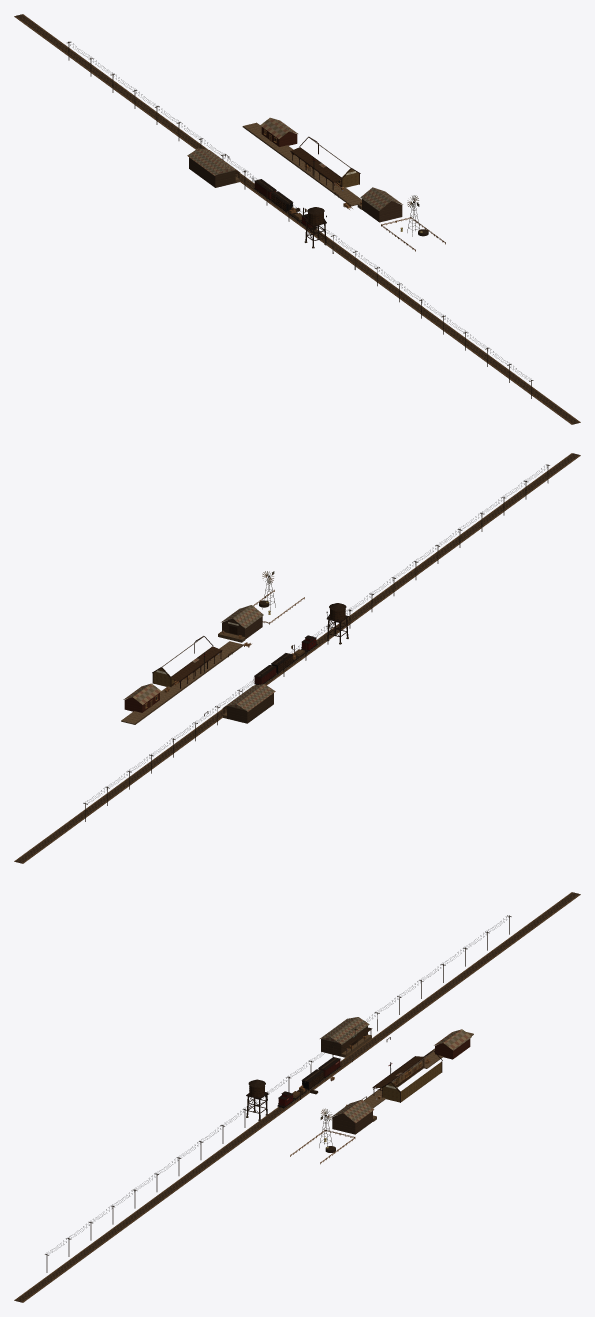
The model's file is depot.glb.
3 views of the same model, one above another, from view 1: azimuth 30°, elevation 25°; view 2: azimuth 150°, elevation 25°; view 3: azimuth 330°, elevation 25° (orthographic).
Visible parts, largest first — view 1: trim-1, adobe-3, masonry-4, walls-0; view 2: trim-1, adobe-3, masonry-4, walls-0; view 3: trim-1, adobe-3, masonry-4, walls-0.
Part boxes in pixels (x1,y1,x2,y2): trim-1: [16, 14, 578, 424]; adobe-3: [14, 14, 580, 424]; masonry-4: [17, 14, 577, 423]; walls-0: [189, 127, 402, 222]; trim-1: [16, 453, 578, 862]; adobe-3: [14, 453, 580, 863]; masonry-4: [17, 453, 577, 862]; walls-0: [124, 616, 273, 723]; trim-1: [16, 892, 578, 1302]; adobe-3: [14, 892, 580, 1302]; masonry-4: [17, 892, 577, 1301]; walls-0: [321, 1026, 470, 1134].
Bounding box in the file's own units: 45.76 × 14.38 × 380.
11 materials, 10 textured.
